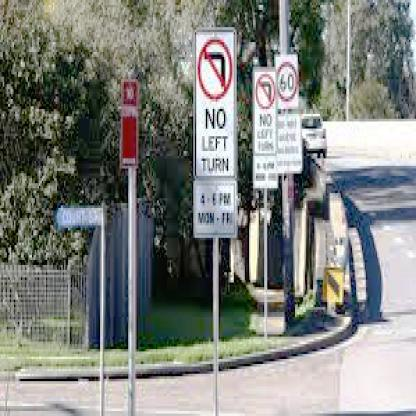No left turn: (196, 32, 234, 102), (254, 71, 274, 107)
